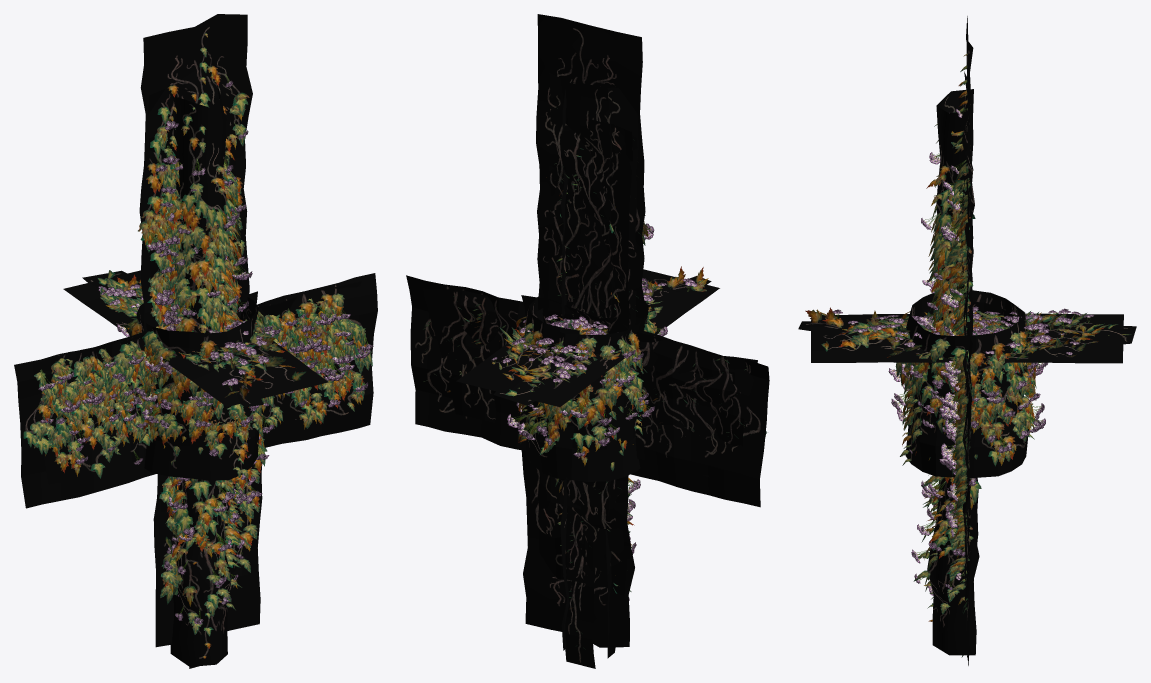
File: IvyFlowering_C.FBX
3 renders of one model, left to right at view 1: azimuth 30°, elevation 25°; view 2: azimuth 150°, elevation 25°; view 3: azimuth 270°, elevation 25°, orthographic. The views are drawn at different scales.
Parts seen in each view (by area): view 1: IvyWallWD_1_FC, IvyWallU_2, IvyCyllU_FC, IvyCyllUW_2_FC, IvyWallWD_2_FC, IvyCyllD_FC, IvyFloor_1_FC, IvyWallD_1_FC, IvyWallU_1, IvyFloor_2_FC, IvyCyllUW_1_FC, IvyWallD_2_FC (+1 smaller); view 2: IvyWallWD_1_FC, IvyWallU_2, IvyCyllUW_2_FC, IvyWallWD_2_FC, IvyWallD_1_FC, IvyFloor_1_FC, IvyWallU_3, IvyWallU_1, IvyWallD_6_FC, IvyWallD_2_FC, IvyFloor_2_FC, IvyCyllD_FC (+6 smaller); view 3: IvyCyllUW_2_FC, IvyFloor_1_FC, IvyCyllD_FC, IvyCyllU_FC, IvyWallWD_1_FC, IvyWallU_2, IvyFloor_2_FC, IvyWallU_1, IvyWallD_1_FC, IvyCyllUW_1_FC, IvyWallWD_2_FC.
Part boxes in pixels (left/top/right/bottom): IvyWallWD_1_FC: left=14, top=273, right=377, bottom=508; IvyWallU_2: left=138, top=14, right=252, bottom=334; IvyCyllU_FC: left=158, top=85, right=245, bottom=333; IvyCyllUW_2_FC: left=117, top=297, right=274, bottom=480; IvyWallWD_2_FC: left=32, top=281, right=361, bottom=484; IvyCyllD_FC: left=160, top=477, right=244, bottom=666; IvyFloor_1_FC: left=63, top=270, right=328, bottom=406; IvyWallD_1_FC: left=153, top=291, right=269, bottom=647; IvyWallU_1: left=147, top=89, right=252, bottom=329; IvyFloor_2_FC: left=82, top=270, right=263, bottom=407; IvyCyllUW_1_FC: left=143, top=310, right=262, bottom=458; IvyWallD_2_FC: left=157, top=309, right=248, bottom=577; IvyWallWD_1_FC: left=406, top=275, right=769, bottom=507; IvyWallU_2: left=536, top=14, right=654, bottom=369; IvyCyllUW_2_FC: left=507, top=295, right=667, bottom=481; IvyWallWD_2_FC: left=422, top=287, right=757, bottom=476; IvyWallD_1_FC: left=521, top=295, right=634, bottom=647; IvyFloor_1_FC: left=456, top=269, right=719, bottom=406; IvyWallU_3: left=560, top=111, right=632, bottom=333; IvyWallU_1: left=548, top=72, right=648, bottom=332; IvyWallD_6_FC: left=565, top=301, right=596, bottom=668; IvyWallD_2_FC: left=538, top=313, right=631, bottom=596; IvyFloor_2_FC: left=493, top=266, right=711, bottom=405; IvyCyllD_FC: left=555, top=328, right=640, bottom=658; IvyCyllUW_2_FC: left=888, top=290, right=1047, bottom=477; IvyFloor_1_FC: left=811, top=306, right=1123, bottom=366; IvyCyllD_FC: left=911, top=320, right=981, bottom=655; IvyCyllU_FC: left=919, top=89, right=975, bottom=335; IvyWallWD_1_FC: left=939, top=347, right=972, bottom=545; IvyWallU_2: left=941, top=16, right=974, bottom=343; IvyFloor_2_FC: left=798, top=307, right=1136, bottom=348; IvyWallU_1: left=941, top=71, right=970, bottom=335; IvyWallD_1_FC: left=947, top=327, right=972, bottom=659; IvyCyllUW_1_FC: left=901, top=302, right=1032, bottom=459; IvyWallWD_2_FC: left=939, top=273, right=972, bottom=508.
Bounding box in the file's own units: 183 × 312 × 154.
